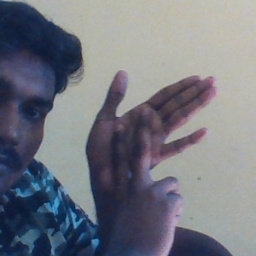N: (83, 68, 219, 219)
